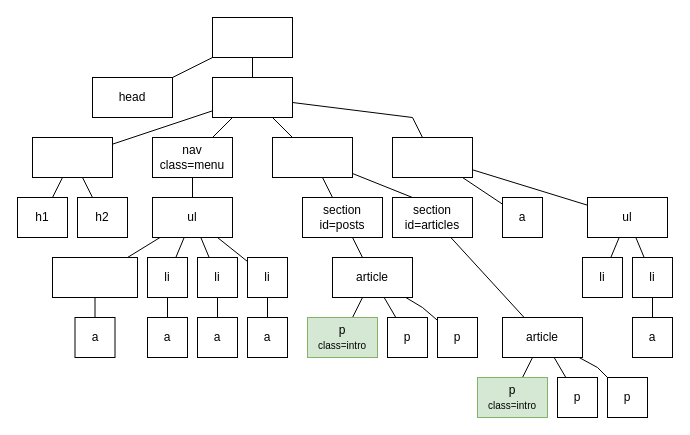
This 690x435 diagram has some shape labels left out. The shapes that lost their labels are listed below. From the top down, each one's box as (x1, y1, x2, y2) in pixels, then its label:
(212, 16, 292, 58): html
(212, 76, 292, 118): body
(32, 136, 112, 178): header
(272, 136, 352, 178): main
(392, 136, 472, 178): aside
(52, 256, 138, 298): li class=selected
